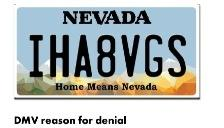8: (95, 33, 117, 78)
A: (72, 33, 94, 78)
G: (143, 33, 164, 79)
H: (49, 33, 71, 78)
I: (28, 33, 45, 78)
S: (166, 33, 187, 79)
V: (119, 33, 141, 79)
